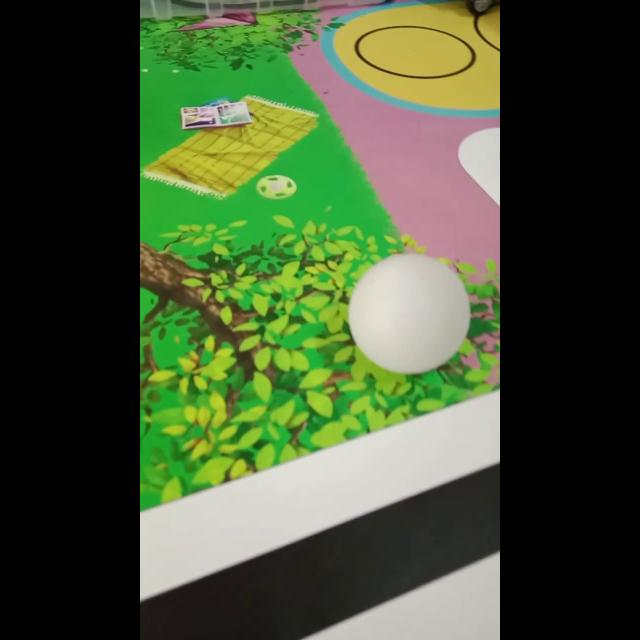white ball: (347, 251, 471, 375)
